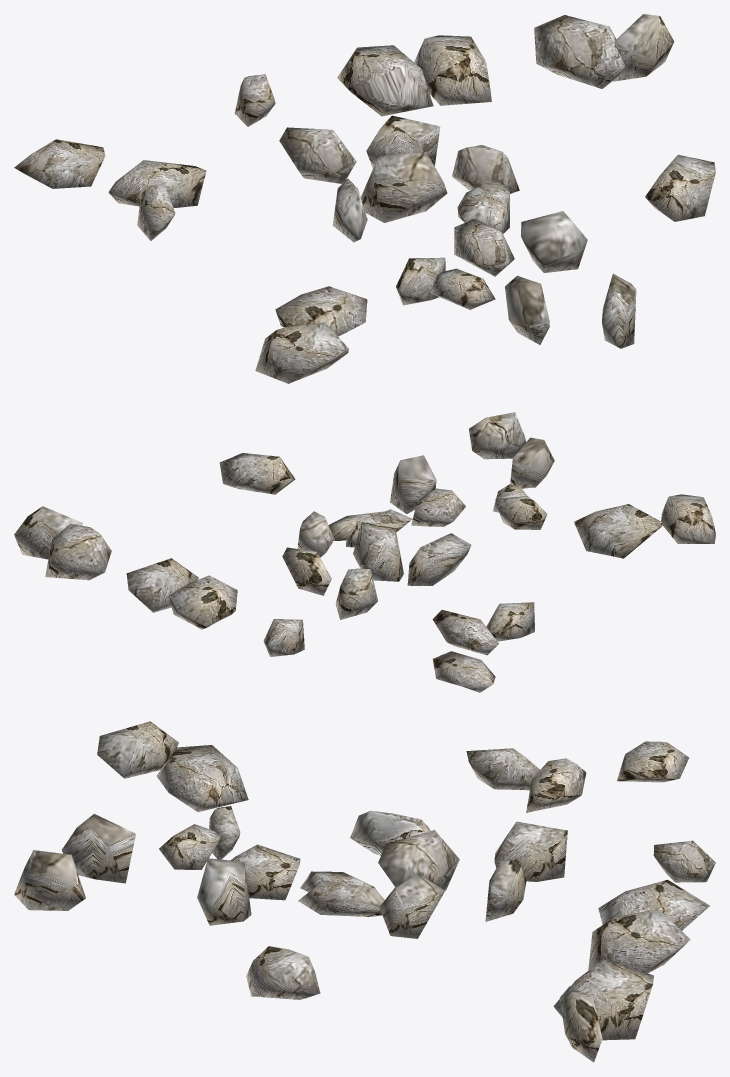
The model's file is SmallRocks2.fbx.
3 views of the same model, one above another, from view 1: azimuth 30°, elevation 25°; view 2: azimuth 150°, elevation 25°; view 3: azimuth 270°, elevation 25° (orthographic). The views are drawn at different scales.
Parts seen in each view (by area): view 1: SmallRocks2_LOD0; view 2: SmallRocks2_LOD0; view 3: SmallRocks2_LOD0.
Boxes of the visible parts, left/top/right/bottom form: SmallRocks2_LOD0: left=14, top=14, right=715, bottom=383; SmallRocks2_LOD0: left=14, top=412, right=715, bottom=692; SmallRocks2_LOD0: left=14, top=721, right=715, bottom=1062.
Size of what is drawn, in the model's own units: 201 by 17.59 by 191.
